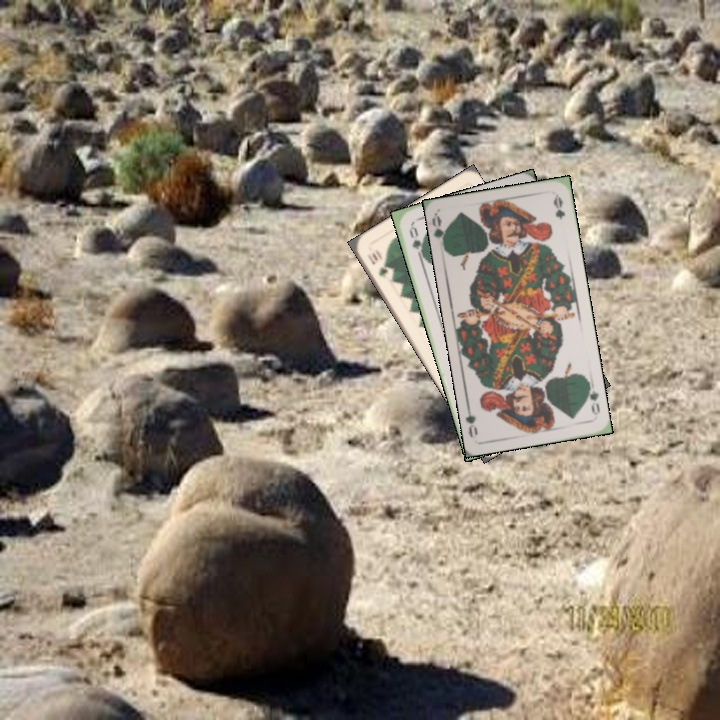G10: (363, 248, 390, 281)
GO: (405, 221, 428, 261), (429, 213, 451, 253), (582, 379, 603, 418)
